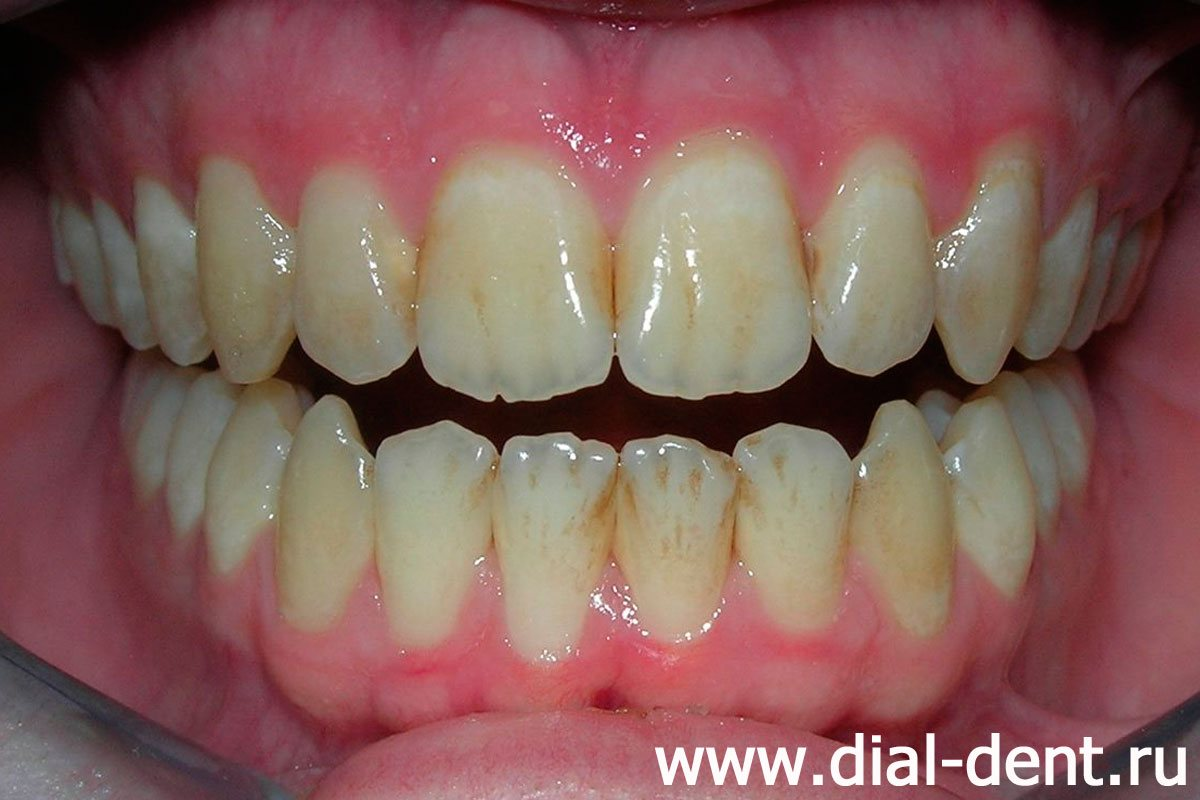LL1BC_healthy: (939, 399, 1044, 598)
LLCI_decay: (613, 430, 731, 653)
LLC_healthy: (852, 394, 949, 630)
LLLI_decay: (730, 422, 858, 641)
LR1BC_healthy: (208, 372, 301, 572)
LRCI_decay: (494, 425, 616, 666)
LRC_healthy: (283, 391, 379, 652)
LRLI_decay: (379, 425, 494, 652)
UL1BC_healthy: (1014, 167, 1097, 374)
ULCI_healthy: (608, 127, 809, 400)
ULC_healthy: (934, 139, 1037, 381)
ULLI_decay: (808, 139, 934, 383)
UR1BC_decay: (133, 165, 210, 364)
URCI_healthy: (416, 144, 610, 405)
URC_healthy: (196, 155, 293, 383)
URLI_healthy: (294, 167, 418, 387)
